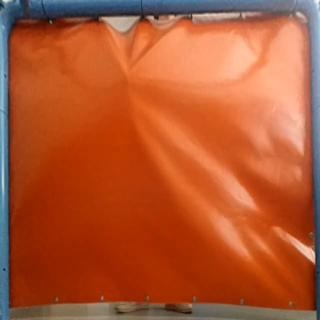Hit-hRxx: (121, 68, 134, 85)
